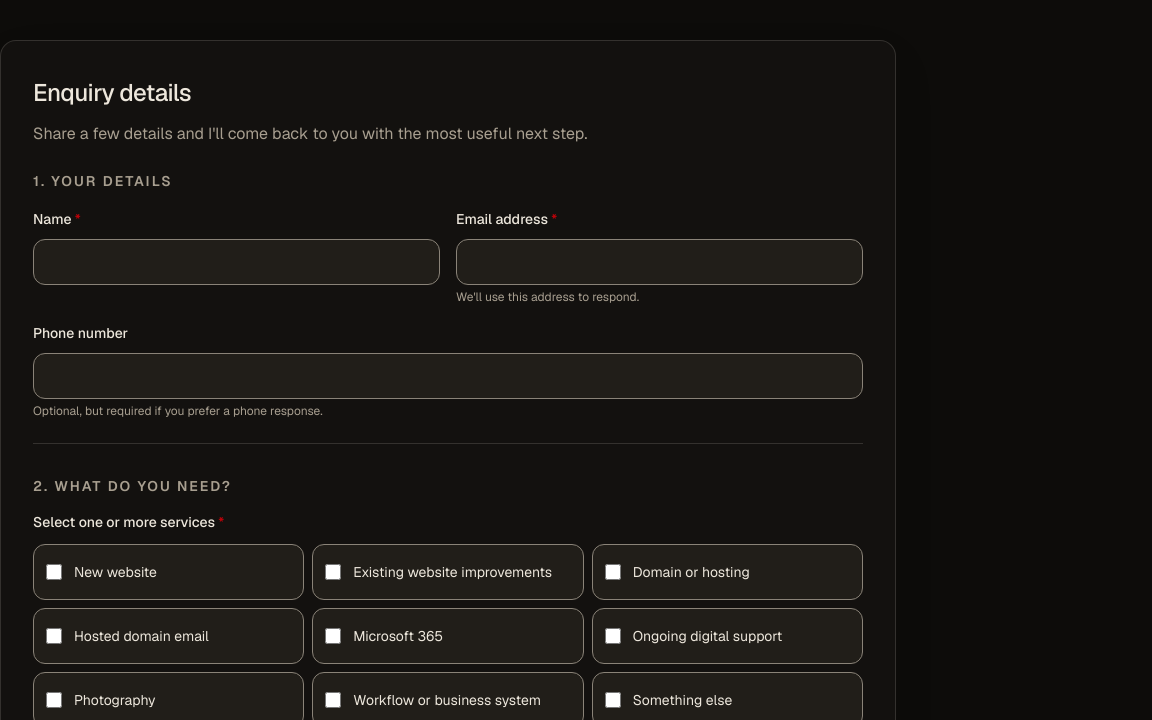
Scenario: ContactEnquiryForm error summary focus targets › tracks one lead after a confirmed successful enquiry
In the field labelled "Name *": (236, 262) [33, 239, 440, 285], type "Test Person"
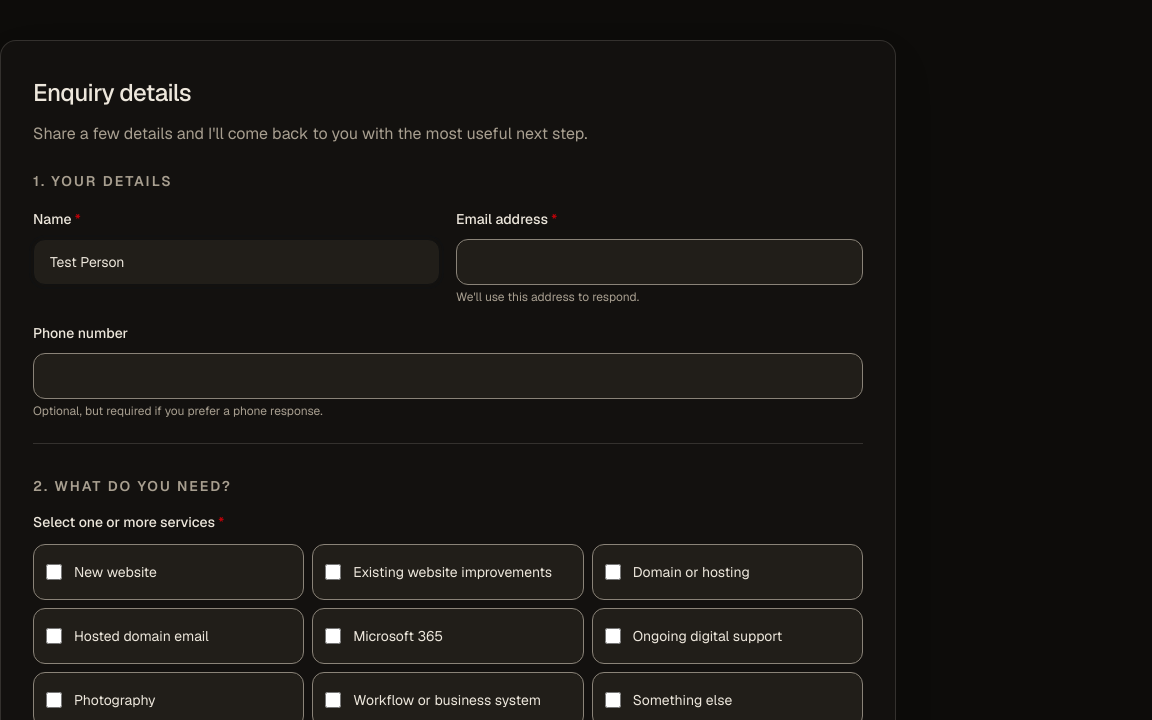
In the field labelled "Email address *": (660, 262) [456, 239, 863, 285], type "test@example.com"
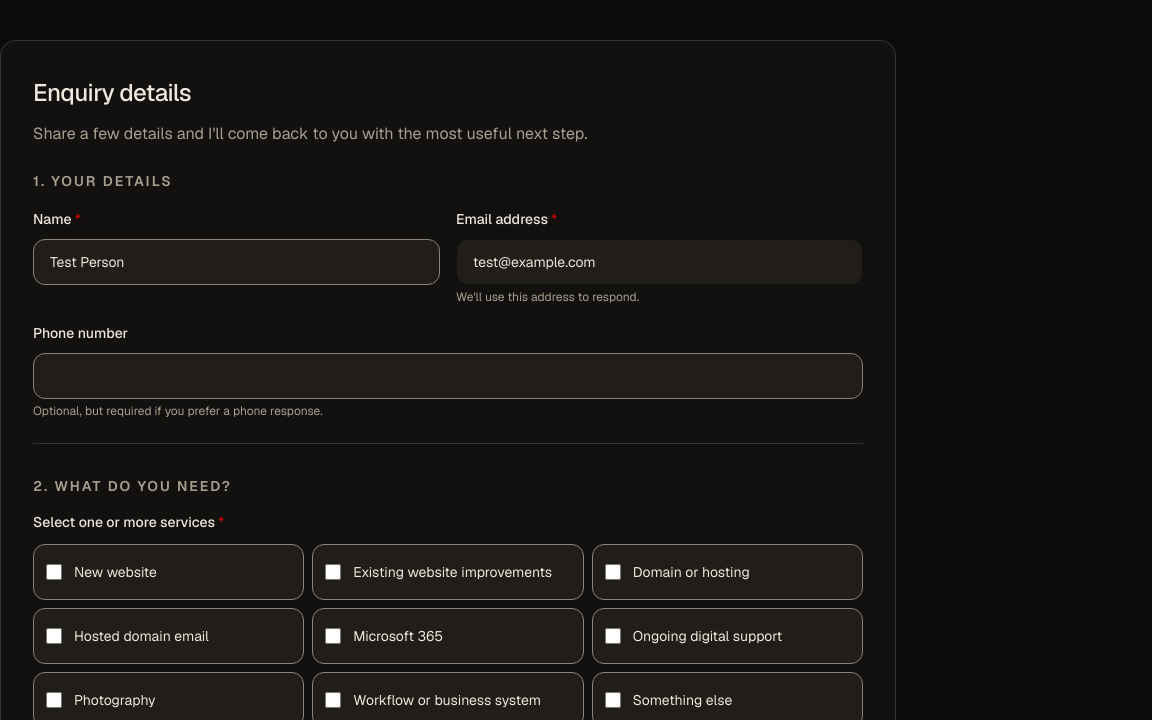
Click the checkbox labelled "New website": (54, 572) [46, 564, 62, 580]
(page scrolled)
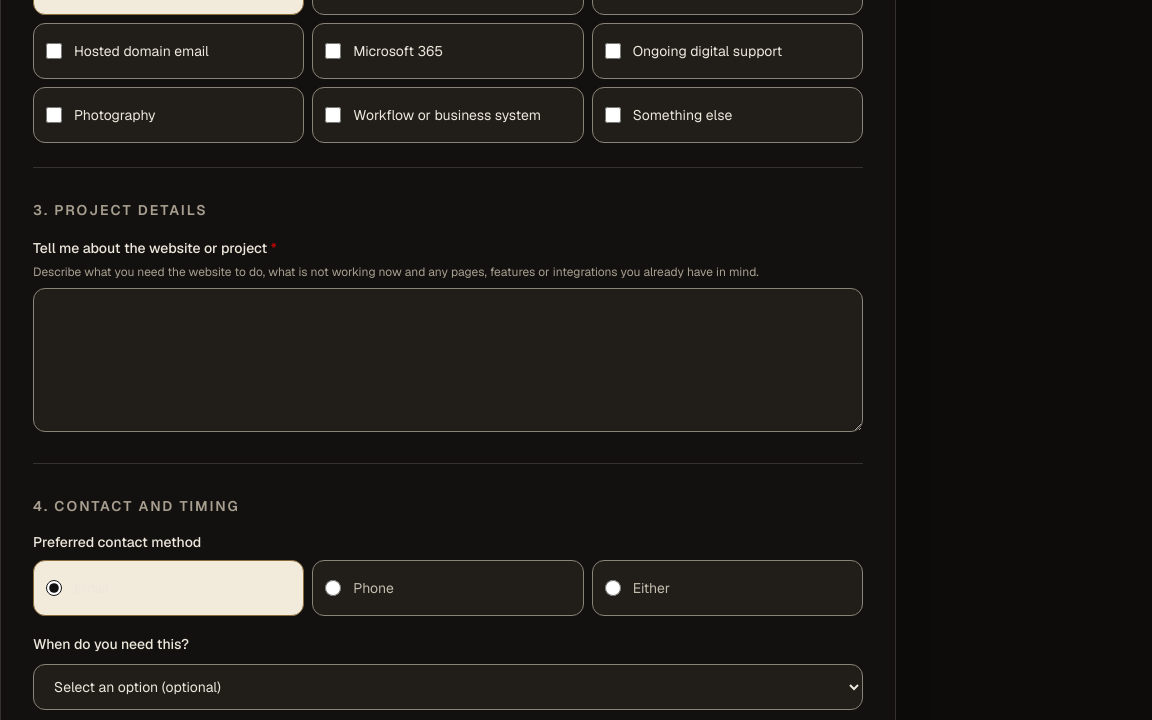
In the text box labelled "Tell me about the website or project *": (448, 360) [33, 288, 863, 432], type "This message is definitely longer than twenty characters."
(page scrolled)
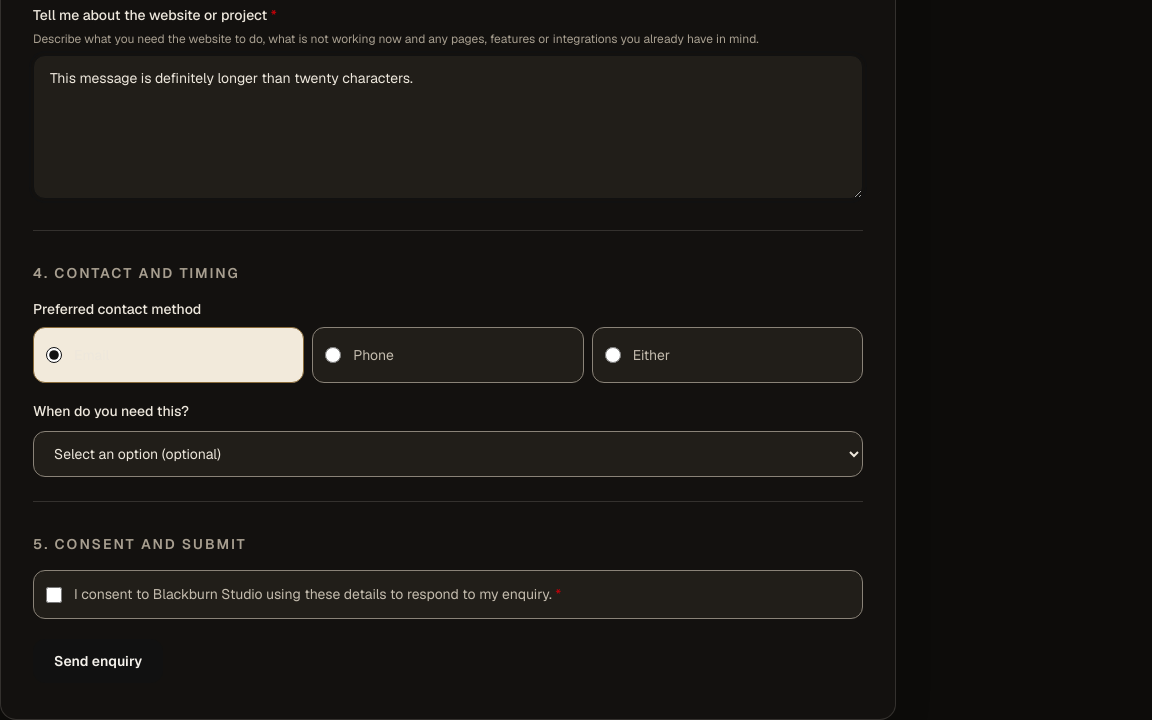
Click the checkbox labelled "I consent to Blackburn Studio using these details to respond to my enquiry. *": (54, 595) [46, 587, 62, 603]
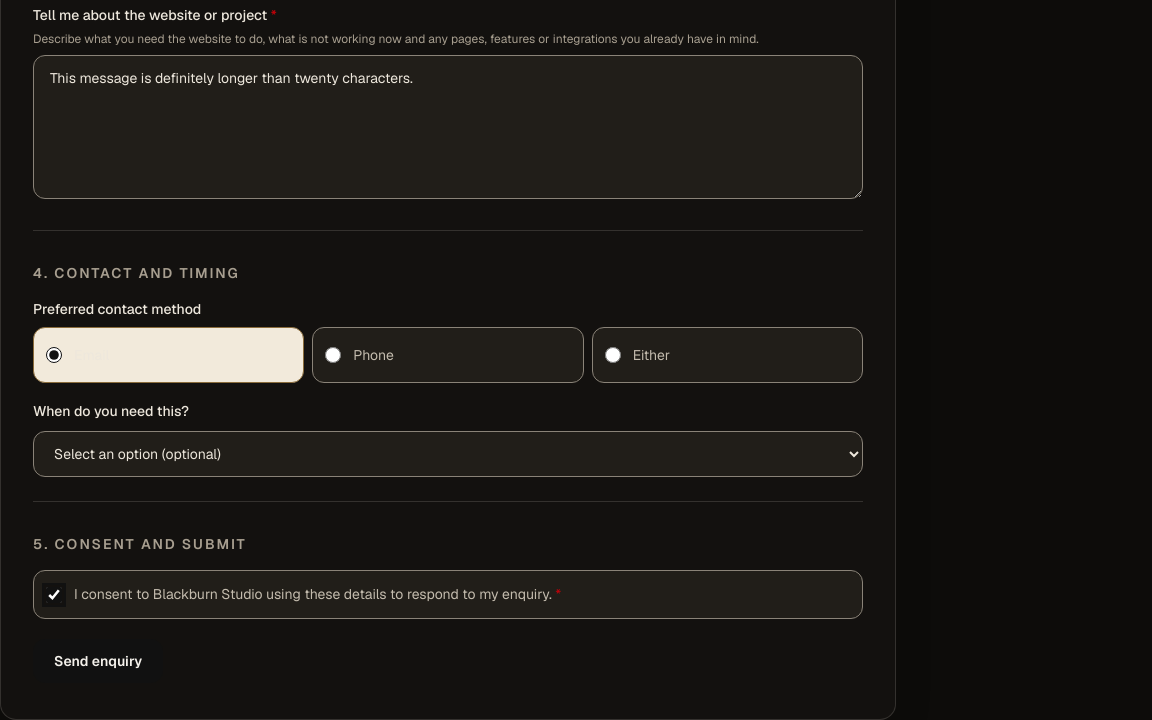
Click the button "Send enquiry": (98, 661) [33, 639, 163, 683]
(page scrolled)
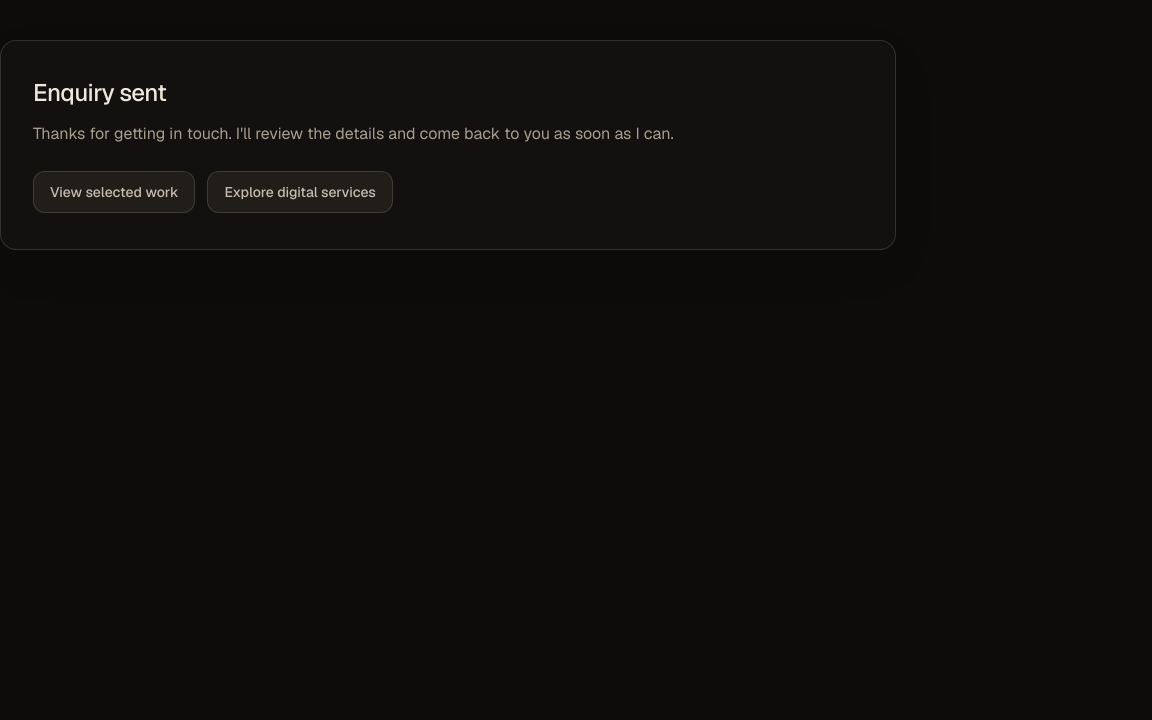
Now the element named "Enquiry submission success" is shown, box [0, 40, 896, 250]
